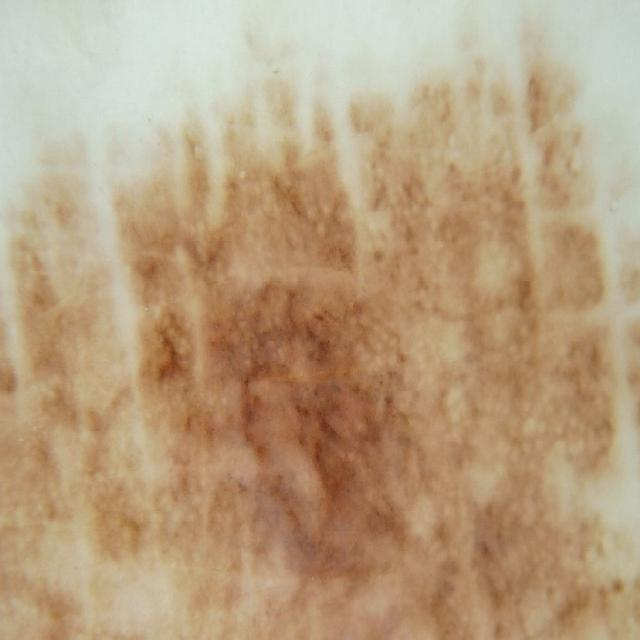Melanoma: (124, 230, 419, 640)
